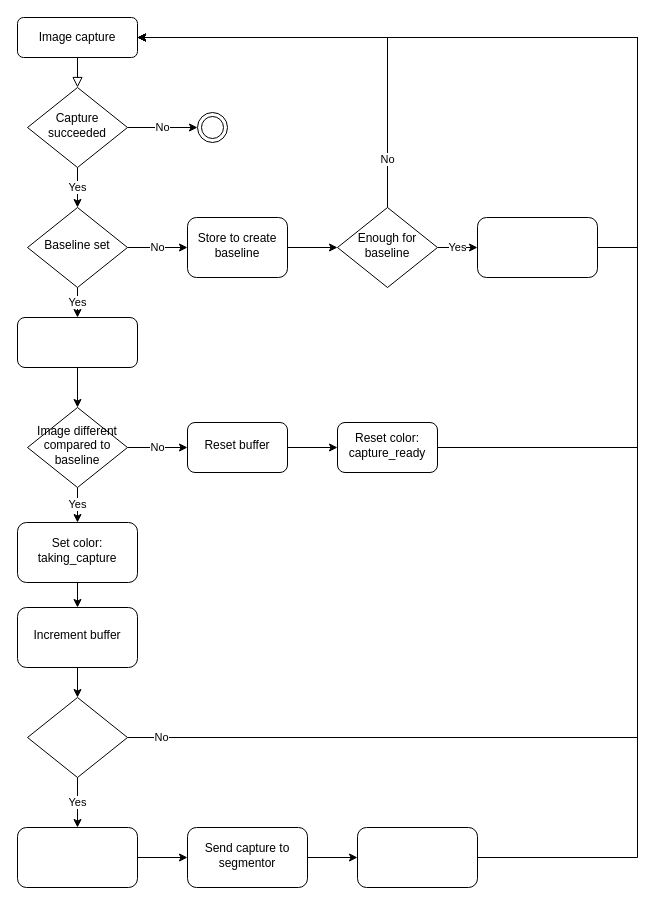
Some shapes in this 663 by 905 pixel diagram are drawn without their labels. Here are the shapes that lost their labels. From the top down, the box of each, then its label:
(476, 216, 598, 278): Set baseline
(16, 316, 138, 368): Set color: capture_ready
(26, 696, 128, 778): Buffer full
(16, 826, 138, 888): Take gesture capture
(356, 826, 478, 888): Set color: capture_done
